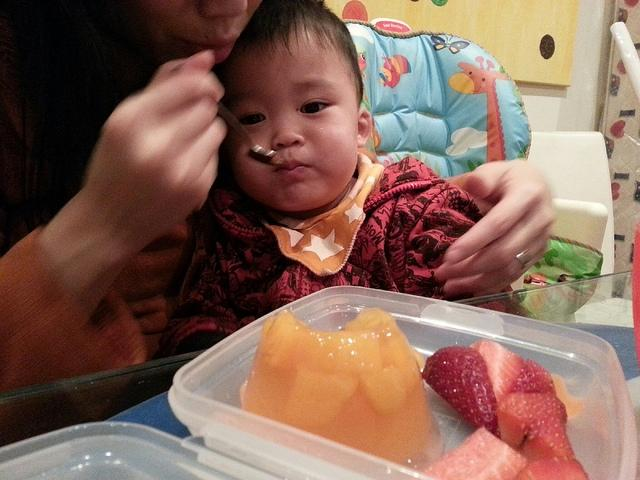peach: (293, 322, 403, 376), (281, 361, 361, 428), (262, 308, 308, 370), (379, 330, 421, 396), (360, 362, 406, 413), (344, 308, 398, 331)
strawberry: (421, 345, 502, 439), (421, 426, 528, 480), (496, 392, 576, 460), (469, 339, 524, 405), (508, 358, 556, 396), (515, 456, 589, 480)
